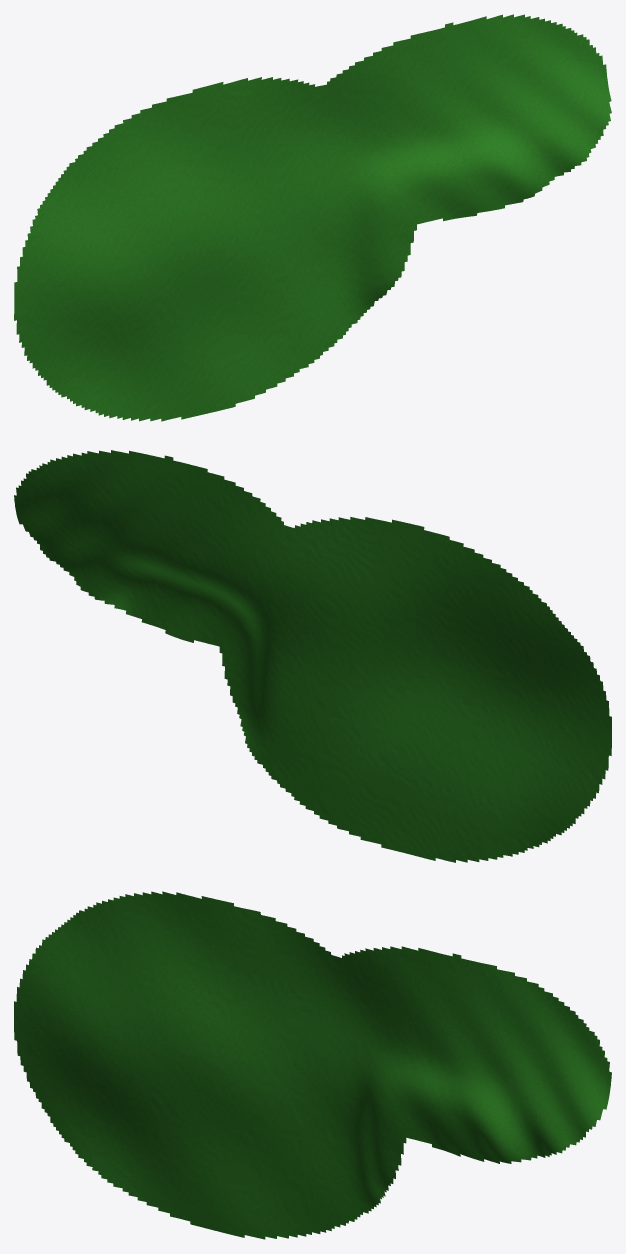
Rendered from complex_grass_surface.obj.
3 renders of one model, top to bottom at view 1: azimuth 30°, elevation 25°; view 2: azimuth 150°, elevation 25°; view 3: azimuth 330°, elevation 25°, orthographic.
Parts seen in each view (by area): view 1: complex_grass_surface; view 2: complex_grass_surface; view 3: complex_grass_surface.
Boxes of the visible parts, box(x1,y1,x2,y2) form: complex_grass_surface: box(14, 14, 611, 421); complex_grass_surface: box(14, 450, 611, 862); complex_grass_surface: box(14, 891, 611, 1239).
Bounding box in the file's own units: 56.88 × 30.63 × 4.2.
1 material, 1 textured.
